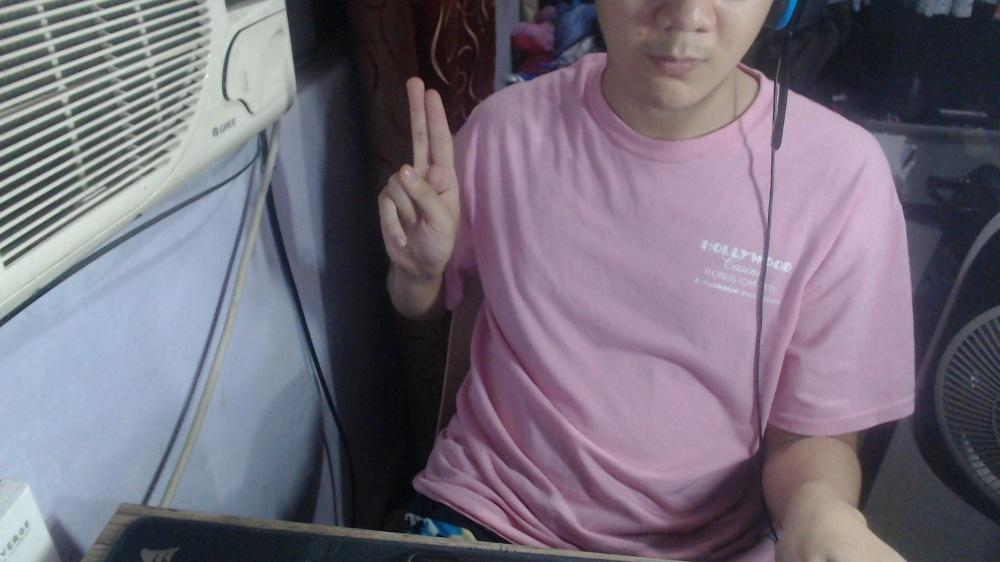u: (374, 72, 464, 283)
